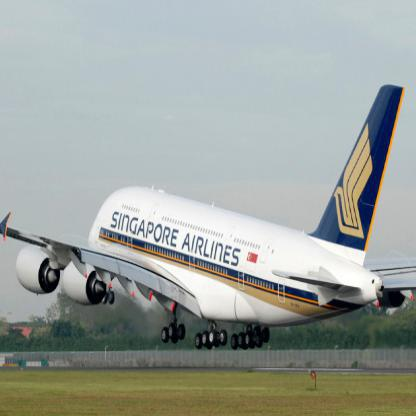CIV_Plane: (0, 76, 415, 367)
